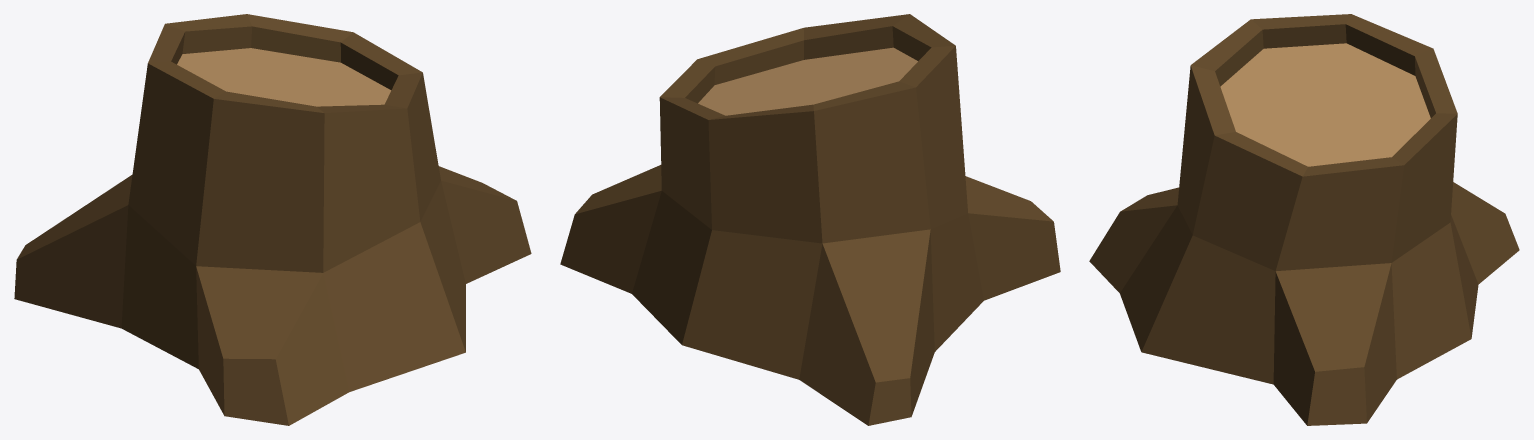
File: Stump_04.fbx
3 views of the same model, side by side, from view 1: azimuth 30°, elevation 25°; view 2: azimuth 150°, elevation 25°; view 3: azimuth 270°, elevation 25° (orthographic). The views are drawn at different scales.
Visible parts, largest first — view 1: Stump_04; view 2: Stump_04; view 3: Stump_04.
Part boxes in pixels (x1,y1,x2,y2): Stump_04: (14,14,531,425); Stump_04: (560,14,1060,425); Stump_04: (1089,14,1519,425).
Bounding box in the file's own units: 61.74 × 37.66 × 57.51.
